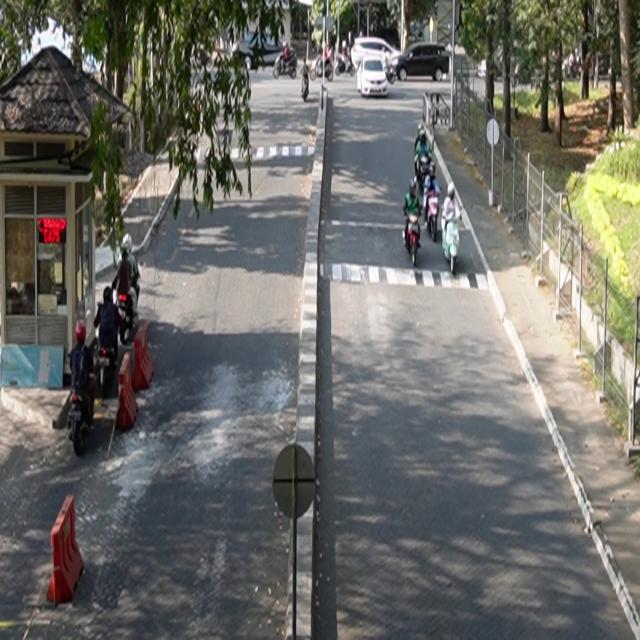car: (358, 56, 389, 98)
